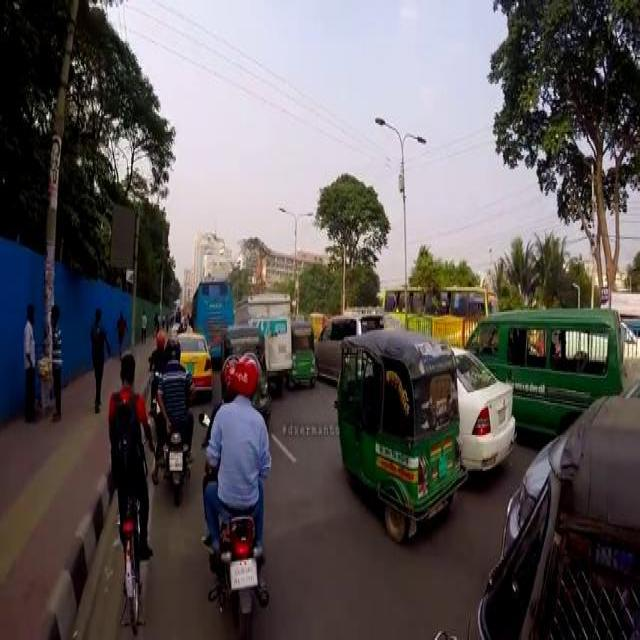10: (197, 406, 269, 634), (160, 414, 192, 504)
11: (232, 286, 292, 375)
16: (176, 326, 210, 389)
17: (432, 392, 638, 636), (334, 328, 466, 540), (218, 323, 270, 412), (290, 320, 316, 384)
19: (463, 308, 623, 432)
5: (450, 346, 514, 469)
9: (314, 312, 382, 378)
Motorcycle: (118, 474, 144, 631)
Truck: (381, 284, 497, 335), (189, 276, 235, 356)
